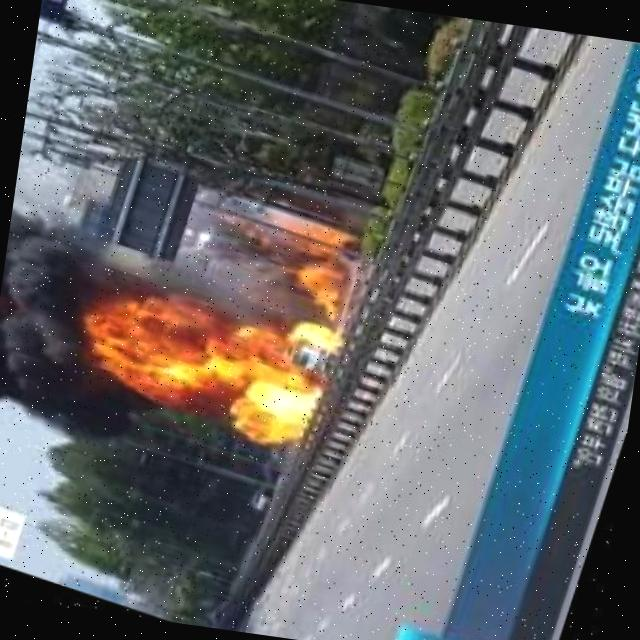fire: (75, 277, 337, 455), (291, 259, 353, 311), (297, 317, 343, 351)
